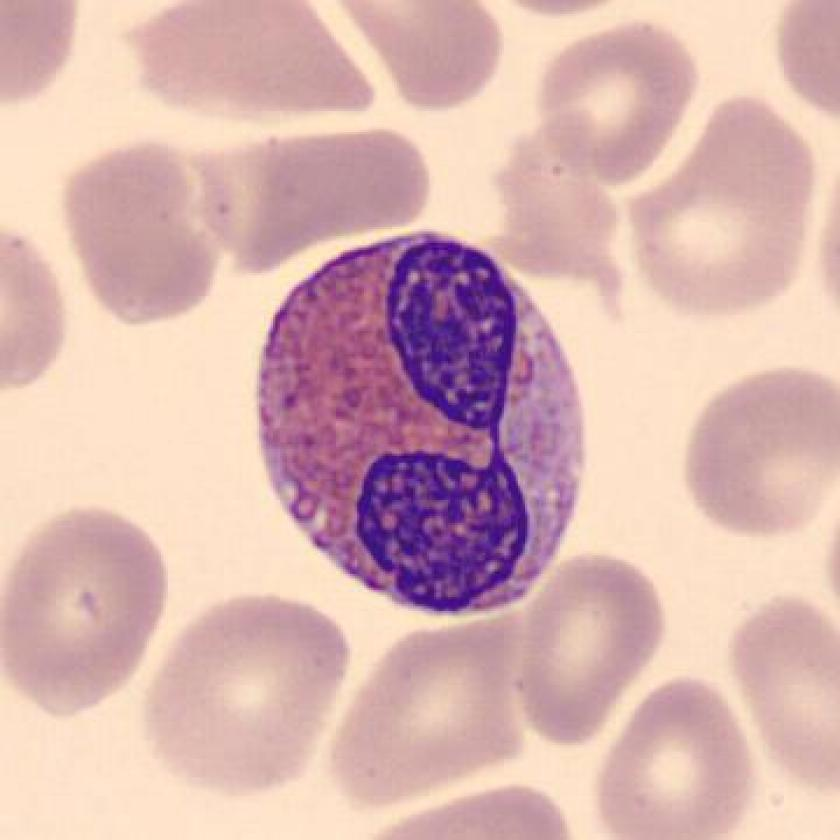eosinophil: (244, 223, 608, 621)
